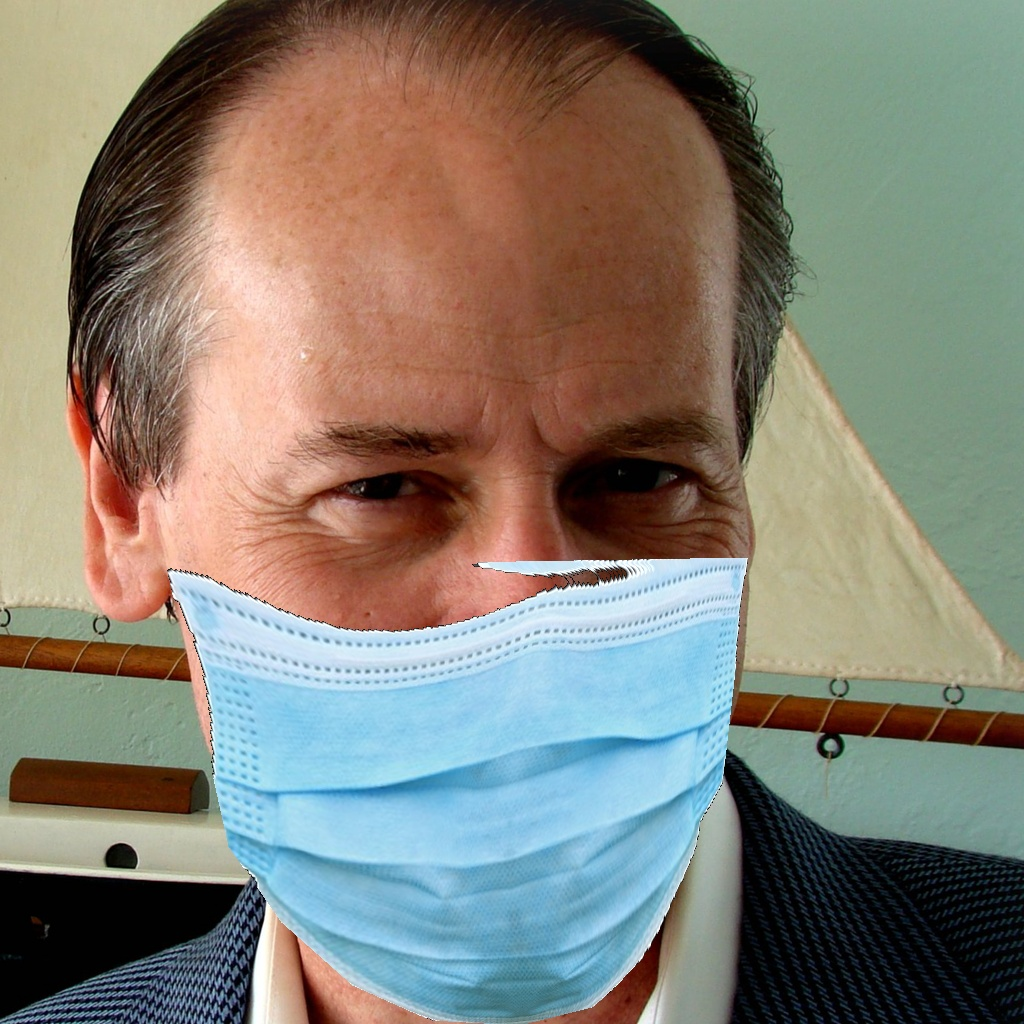Mask: (160, 356, 762, 1024)
